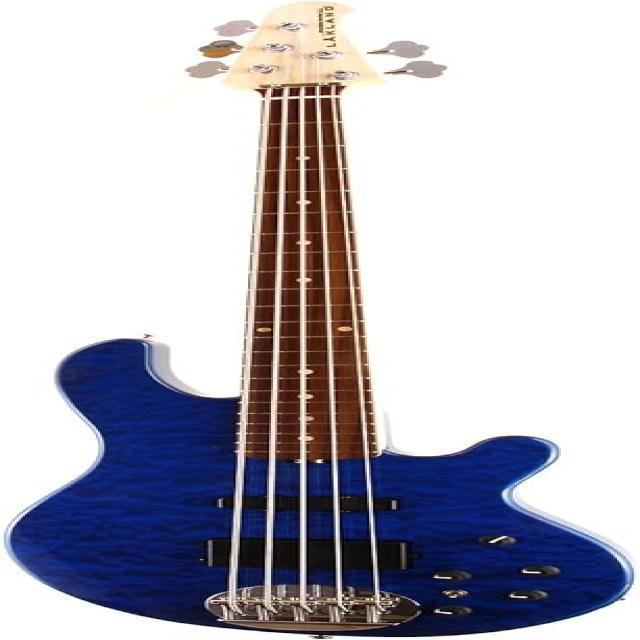bass: (8, 2, 630, 636)
